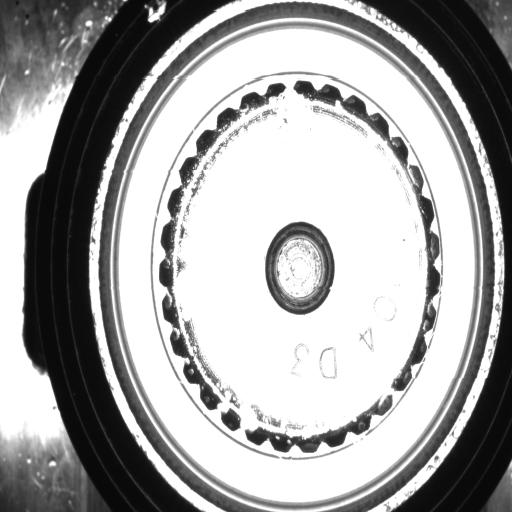gear: (157, 74, 443, 458)
